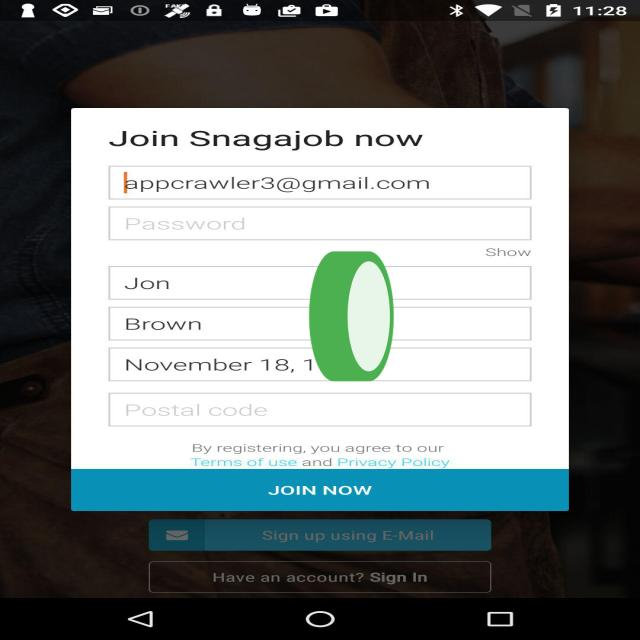social proof: (305, 202, 398, 442)
